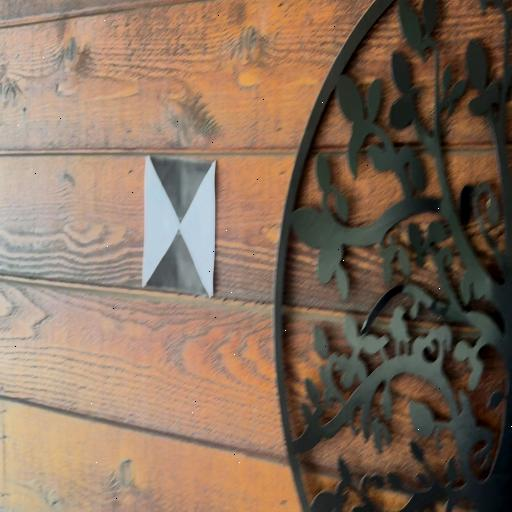target: (145, 158, 214, 294)
